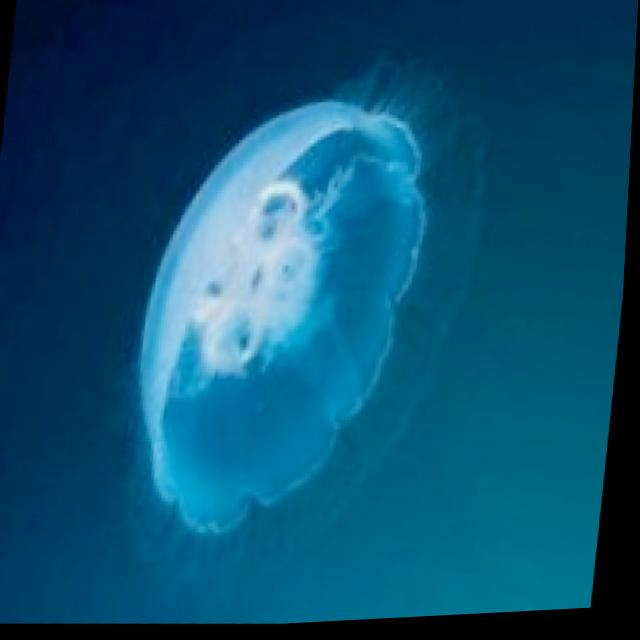Moon-jellyfish: (116, 49, 502, 580)
